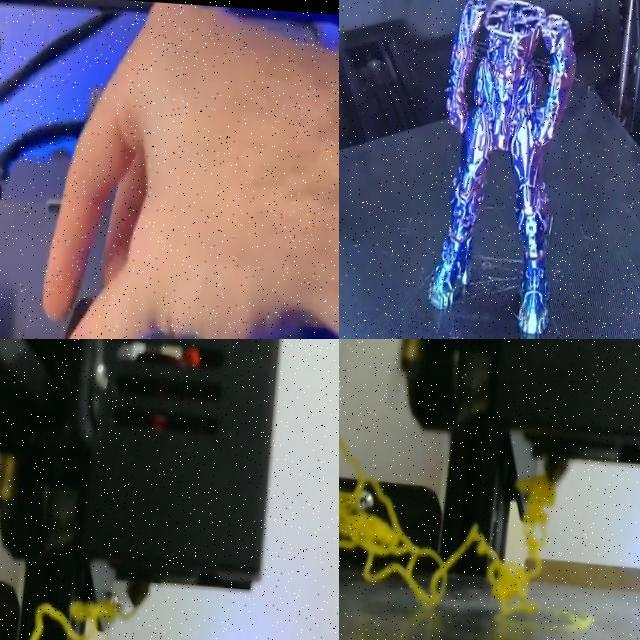spaghetti: (339, 437, 553, 615), (69, 600, 119, 620)
